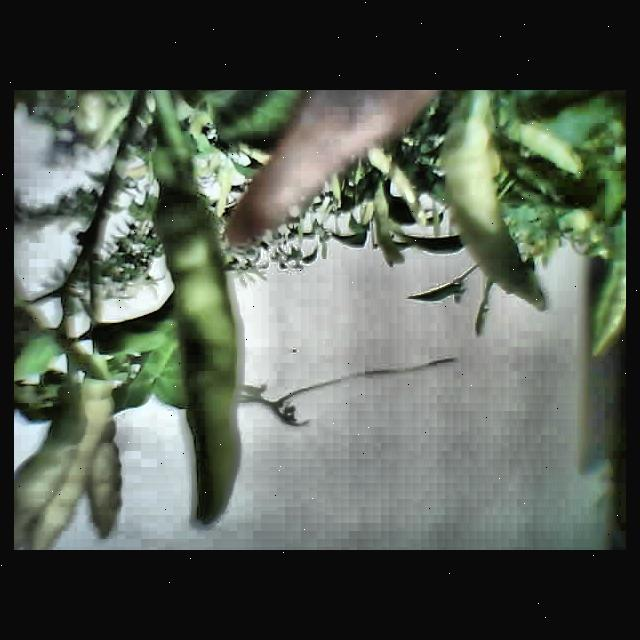Cabai: (232, 90, 412, 236)
